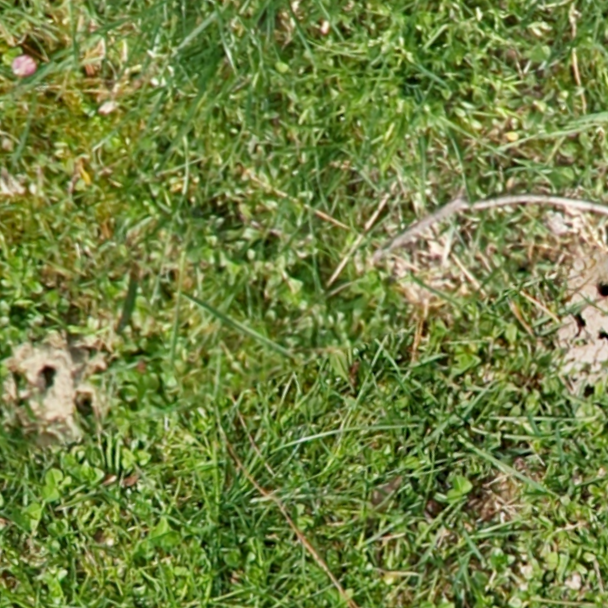nest: (545, 263, 608, 410), (1, 340, 99, 434)
